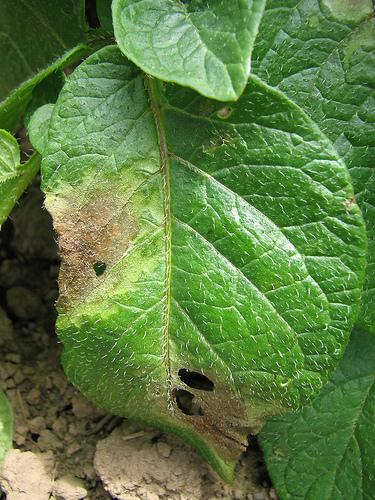Potato leaf: (40, 41, 369, 484)
